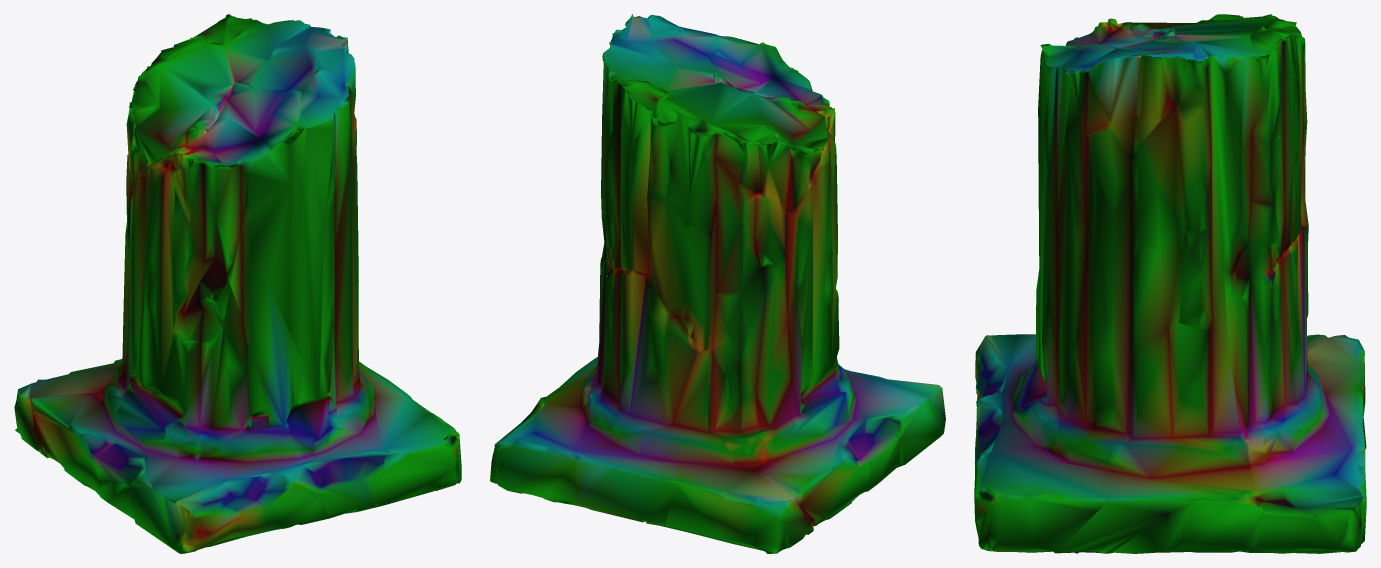
File: SM_Ruin_B_L2.glb
3 renders of one model, left to right at view 1: azimuth 30°, elevation 25°; view 2: azimuth 150°, elevation 25°; view 3: azimuth 270°, elevation 25°, orthographic. The views are drawn at different scales.
Parts seen in each view (by area): view 1: SM_Ruin_B; view 2: SM_Ruin_B; view 3: SM_Ruin_B.
Part boxes in pixels (x1,y1,x2,y2): SM_Ruin_B: (14,14,461,553); SM_Ruin_B: (490,14,945,553); SM_Ruin_B: (974,14,1366,553).
Bounding box in the file's own units: 1.94 × 2.59 × 1.93.
